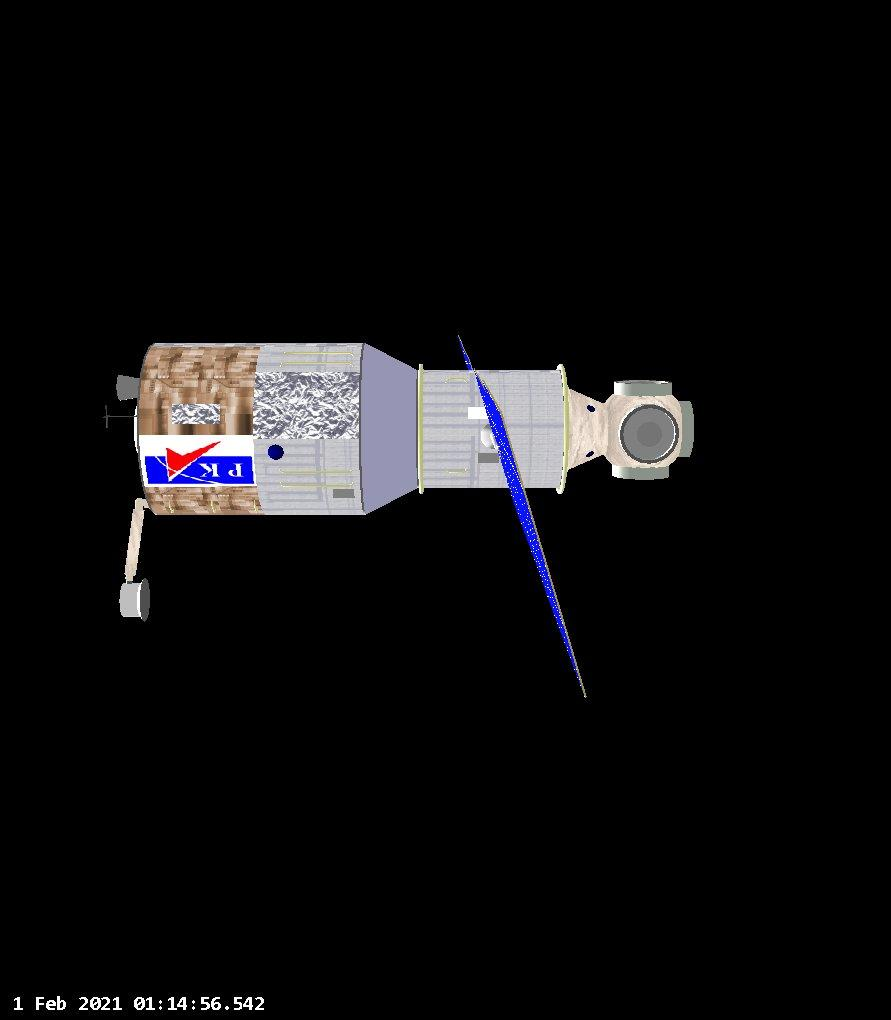antenna: (114, 574, 158, 625)
body: (130, 333, 698, 524)
solar: (449, 325, 593, 706)
thruster: (108, 366, 150, 405)
